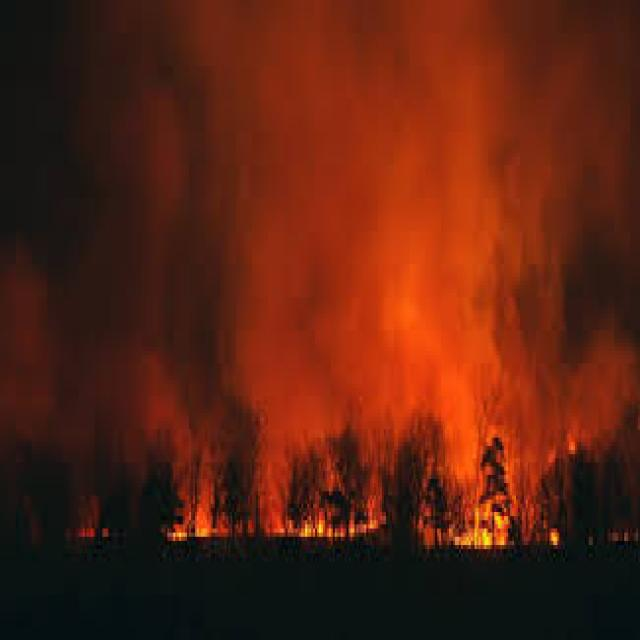Fire: (467, 496, 507, 553), (169, 512, 213, 544), (550, 531, 558, 548)
Smoke: (0, 0, 229, 417), (508, 153, 639, 403)
